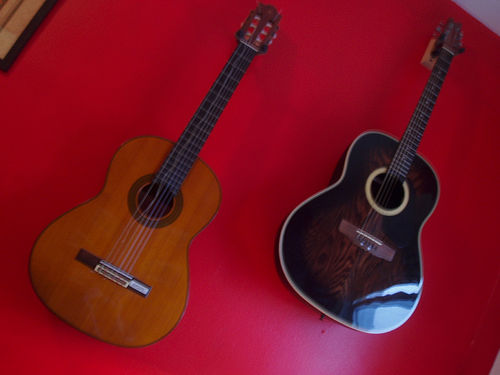guitar: (26, 2, 282, 350), (273, 16, 465, 336)
